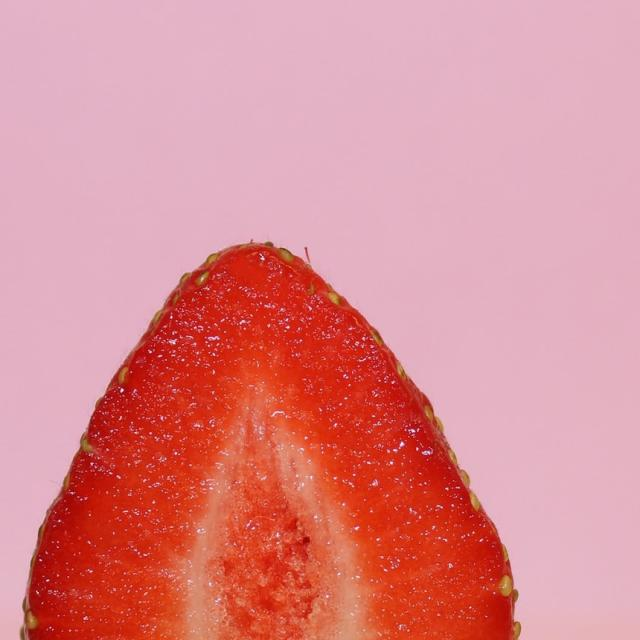strawberry: (0, 202, 551, 640)
